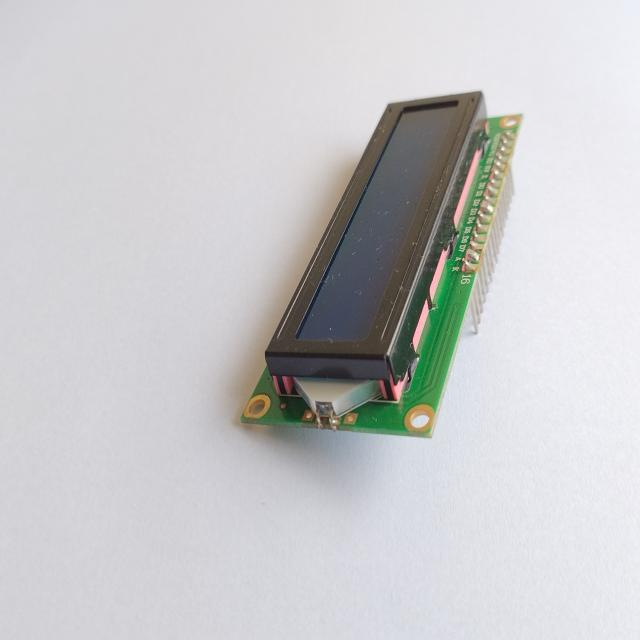lcd: (238, 77, 528, 462)
